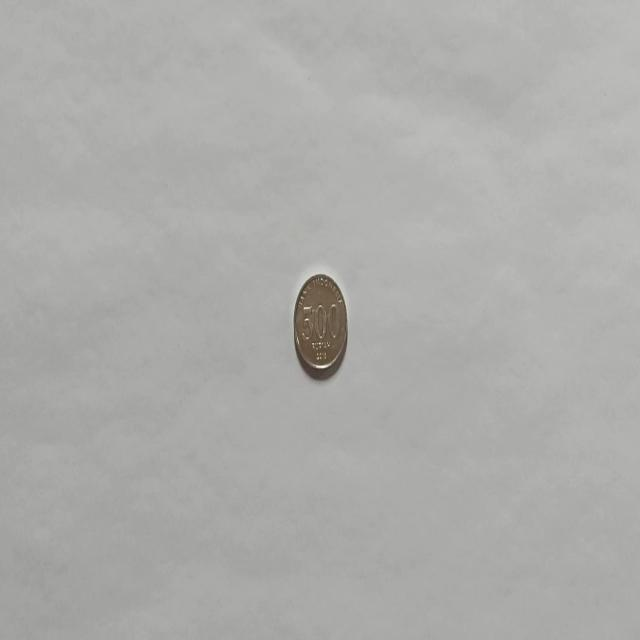lima ratus rupiah: (292, 271, 348, 379)
